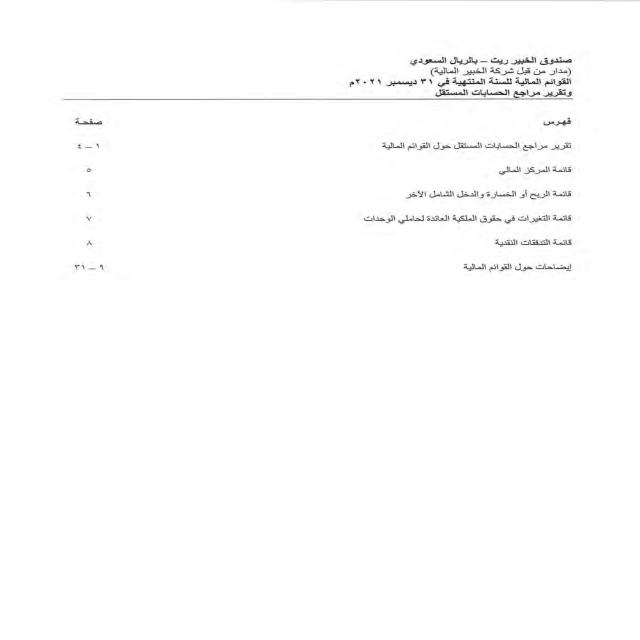other: (46, 107, 578, 299)
